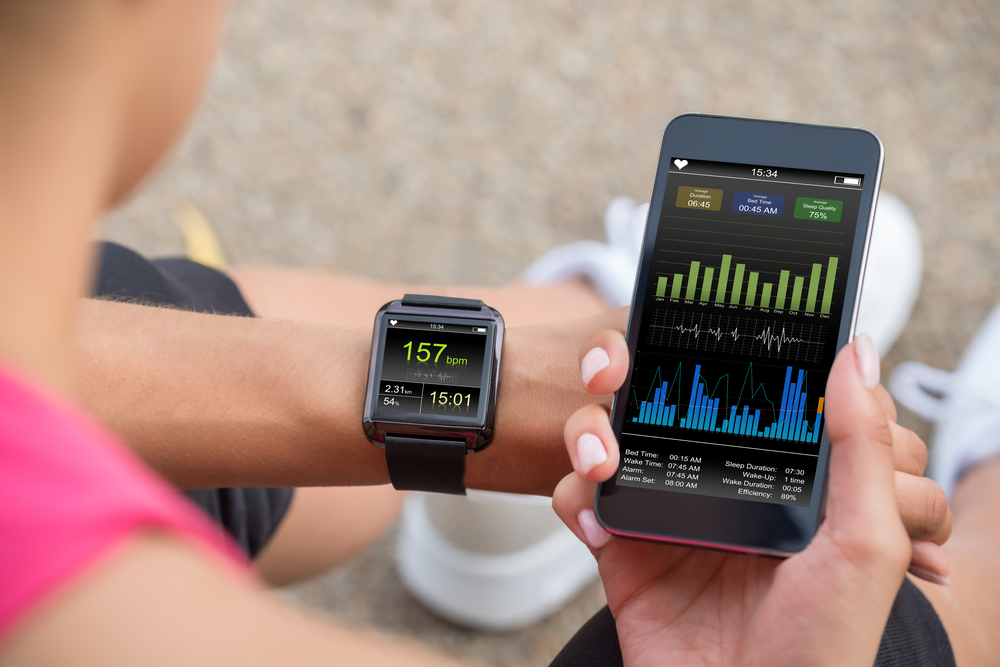mobile: (600, 100, 848, 565)
